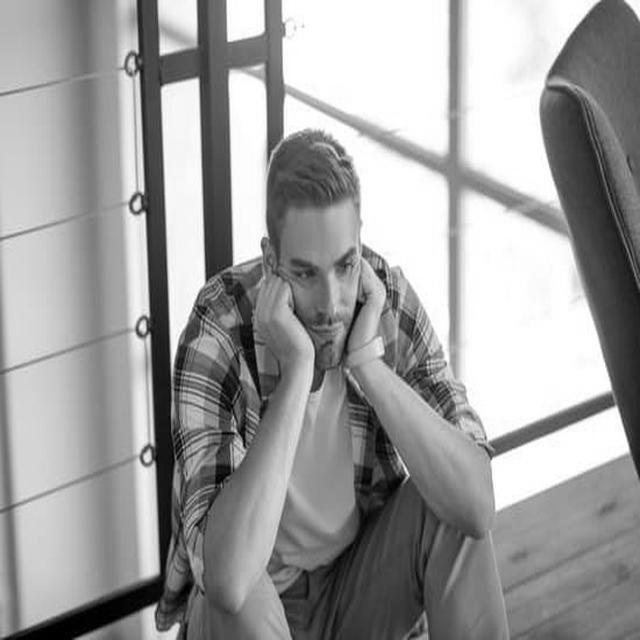Sadness: (278, 203, 357, 367)
